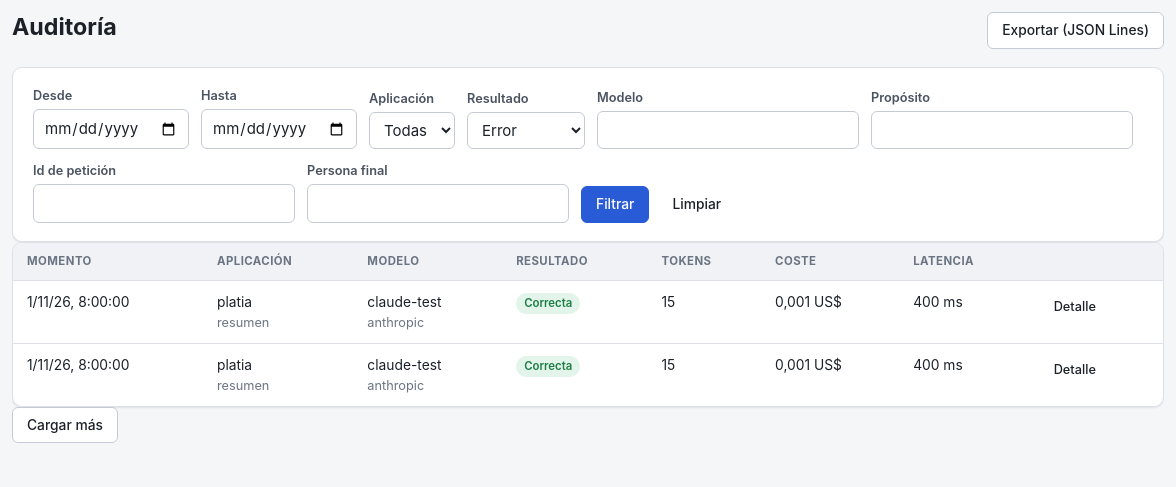
auditoría › los filtros viajan a la API y la siguiente página usa el cursor
Check: the text "platia" is shown 2 times, box x1=203 y1=280 x2=353 y2=343; x1=203 y1=343 x2=353 y2=406
Click the button "Cargar más": (65, 425) x1=12 y1=407 x2=118 y2=443
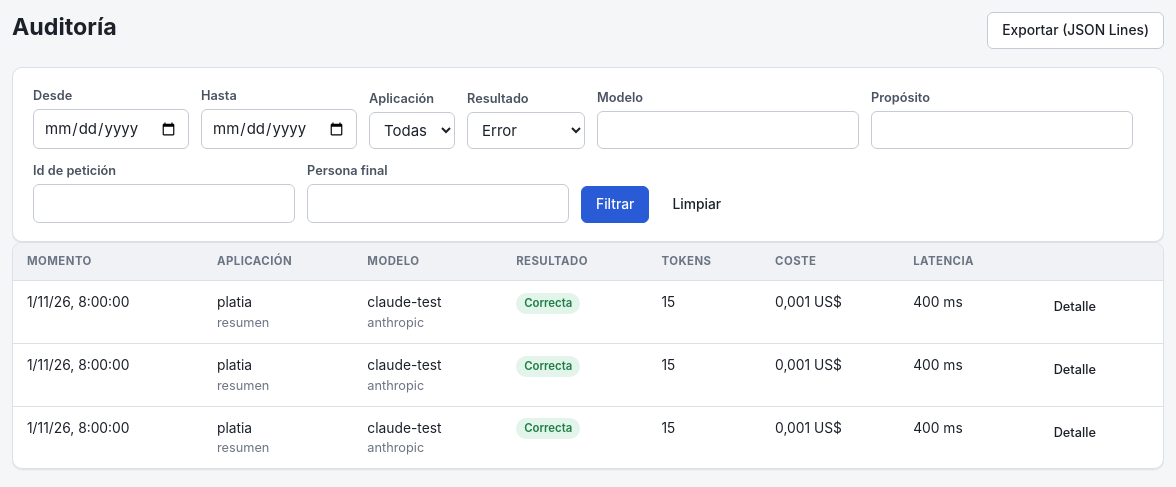
Check: the text "platia" is shown 3 times, box x1=203 y1=280 x2=353 y2=343; x1=203 y1=343 x2=353 y2=406; x1=203 y1=406 x2=353 y2=468
Check: the button "Cargar más" is gone
